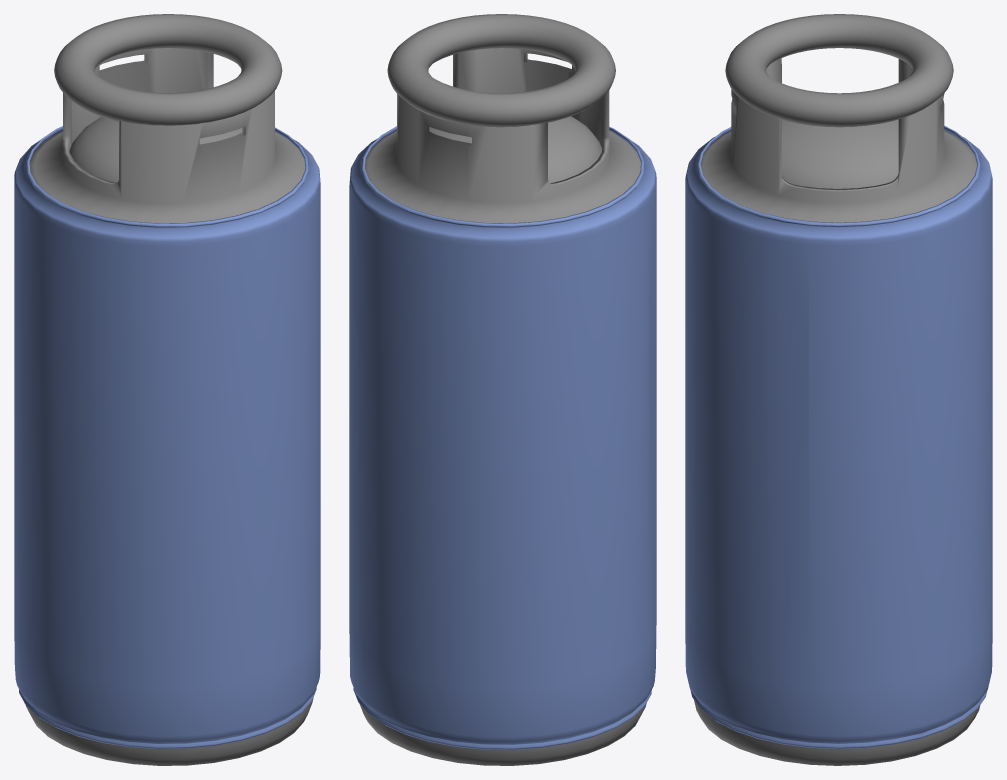
The model's file is fueltank.fbx.
3 views of the same model, side by side, from view 1: azimuth 30°, elevation 25°; view 2: azimuth 150°, elevation 25°; view 3: azimuth 270°, elevation 25° (orthographic).
Visible parts, largest first — view 1: Cylinder.000, Cylinder.001; view 2: Cylinder.000, Cylinder.001; view 3: Cylinder.000, Cylinder.001.
Part boxes in pixels (<box>): Cylinder.000: <box>14,126,320,748</box>; Cylinder.001: <box>26,14,313,765</box>; Cylinder.000: <box>349,126,656,749</box>; Cylinder.001: <box>359,14,646,765</box>; Cylinder.000: <box>685,125,992,748</box>; Cylinder.001: <box>694,14,980,765</box>.
Bounding box in the file's own units: 289 × 675 × 289.
